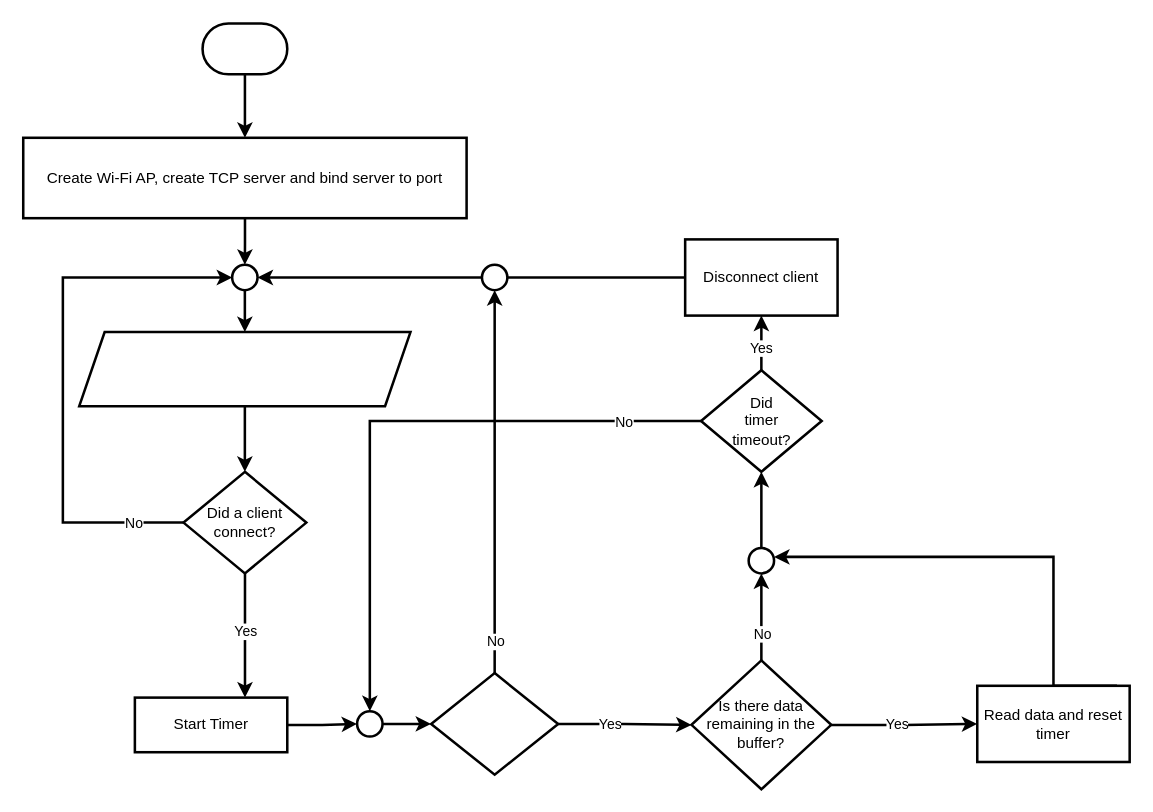
Some shapes in this 1153 by 812 pixel diagram are drawn without their labels. The shapes that lost their labels are listed below. From the top down, each one's centre as x and y in pixels, then its label:
At [244,48]: "BEGIN".
At [244,368]: "Accept an available incoming client connection".
At [494,723]: "Is client connected?".
